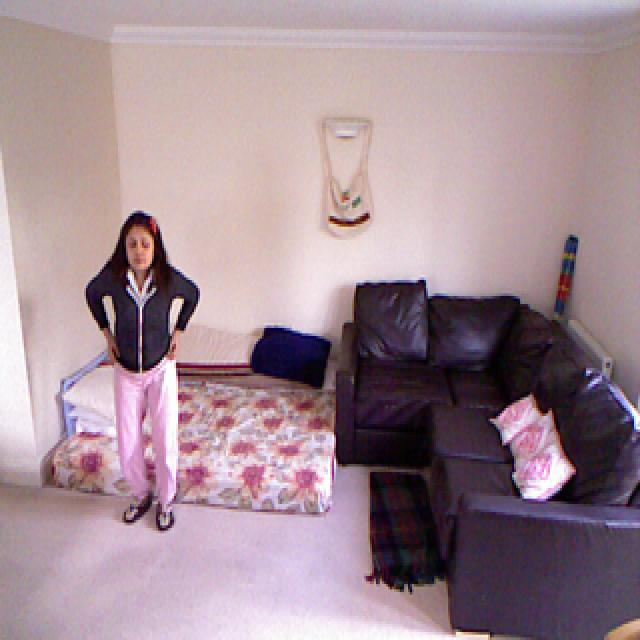standing: (92, 203, 205, 534)
